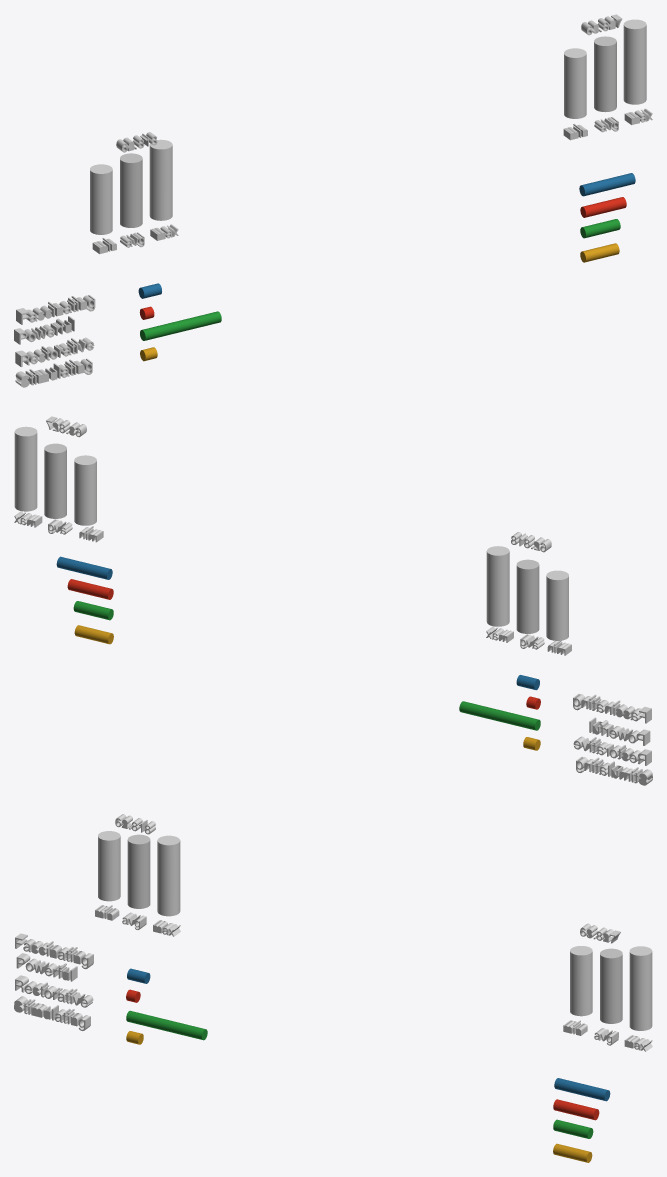
File: elephant.fbx
3 renders of one model, top to bottom at view 1: azimuth 30°, elevation 25°; view 2: azimuth 150°, elevation 25°; view 3: azimuth 330°, elevation 25°, orthographic.
Parts seen in each view (by area): view 1: Cylinder_4, Cylinder_2, Cylinder_1, Cylinder, Cylinder_5, Cylinder_3, Cylinder_8, Cylinder_12, Cylinder_13; view 2: Cylinder_4, Cylinder_2, Cylinder, Cylinder_1, Cylinder_5, Cylinder_3, Cylinder_8, Cylinder_12, Cylinder_13; view 3: Cylinder_4, Cylinder_2, Cylinder, Cylinder_1, Cylinder_3, Cylinder_5, Cylinder_8, Cylinder_12, Cylinder_13.
Boxes of the visible parts, x1=… form: Cylinder_4: x1=623, y1=19, x2=646, y2=104; Cylinder_2: x1=149, y1=139, x2=172, y2=220; Cylinder_1: x1=594, y1=36, x2=616, y2=112; Cylinder: x1=120, y1=153, x2=142, y2=227; Cylinder_5: x1=564, y1=48, x2=586, y2=118; Cylinder_3: x1=90, y1=164, x2=112, y2=234; Cylinder_8: x1=140, y1=311, x2=221, y2=340; Cylinder_12: x1=579, y1=173, x2=635, y2=196; Cylinder_13: x1=580, y1=197, x2=626, y2=217; Cylinder_4: x1=14, y1=426, x2=37, y2=511; Cylinder_2: x1=486, y1=546, x2=509, y2=626; Cylinder: x1=516, y1=559, x2=539, y2=633; Cylinder_1: x1=44, y1=443, x2=66, y2=518; Cylinder_5: x1=74, y1=455, x2=96, y2=525; Cylinder_3: x1=546, y1=570, x2=568, y2=640; Cylinder_8: x1=459, y1=701, x2=540, y2=730; Cylinder_12: x1=56, y1=556, x2=112, y2=579; Cylinder_13: x1=67, y1=579, x2=113, y2=599; Cylinder_4: x1=629, y1=946, x2=652, y2=1030; Cylinder_2: x1=157, y1=835, x2=180, y2=916; Cylinder: x1=127, y1=834, x2=150, y2=908; Cylinder_1: x1=600, y1=948, x2=622, y2=1023; Cylinder_3: x1=98, y1=831, x2=120, y2=901; Cylinder_5: x1=570, y1=946, x2=592, y2=1016; Cylinder_8: x1=126, y1=1010, x2=207, y2=1040; Cylinder_12: x1=554, y1=1078, x2=610, y2=1101; Cylinder_13: x1=553, y1=1099, x2=599, y2=1120.
Bounding box in the file's own units: 641 × 218 × 44.21.
